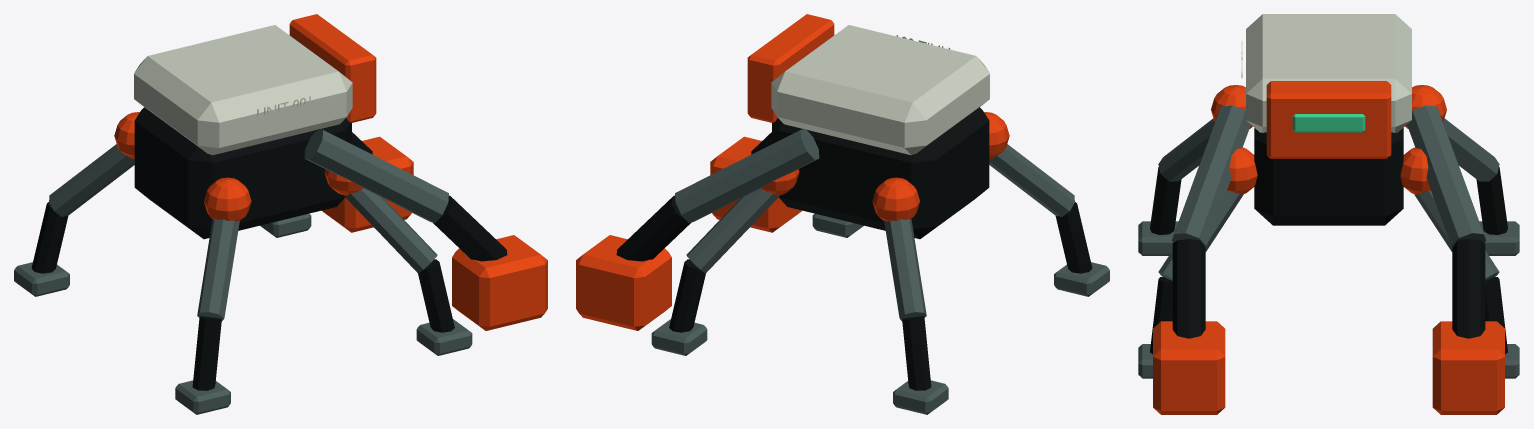
The model's file is SM_MP_Heavy_Miner.fbx.
3 renders of one model, left to right at view 1: azimuth 30°, elevation 25°; view 2: azimuth 150°, elevation 25°; view 3: azimuth 270°, elevation 25°, orthographic. The views are drawn at different scales.
Visible parts, largest first — view 1: SM_MP_Heavy_Miner; view 2: SM_MP_Heavy_Miner; view 3: SM_MP_Heavy_Miner.
Boxes of the visible parts, x1=… form: SM_MP_Heavy_Miner: x1=14, y1=14, x2=547, y2=414; SM_MP_Heavy_Miner: x1=576, y1=14, x2=1109, y2=414; SM_MP_Heavy_Miner: x1=1138, y1=14, x2=1519, y2=414.
Bounding box in the file's own units: 338 × 294 × 228.
Materials: 1 (1 with a texture image).
